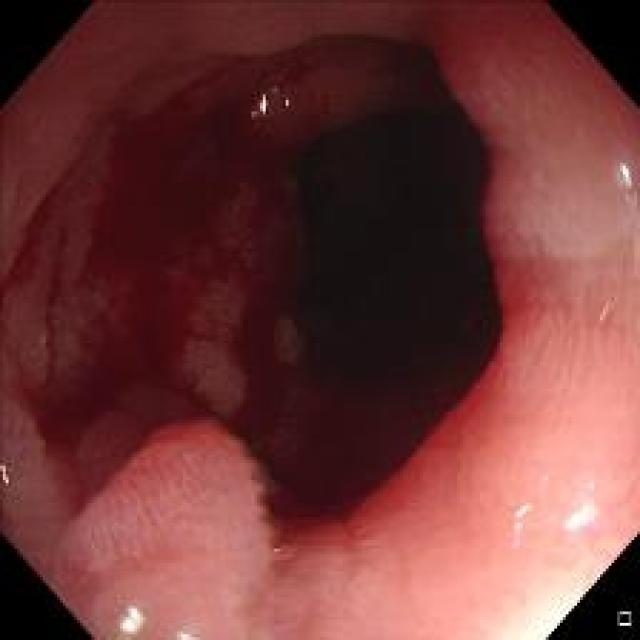blood: (228, 314, 494, 532), (94, 98, 304, 310), (49, 304, 221, 514)
bubbles: (582, 288, 624, 338), (266, 531, 298, 562)
contrast: (2, 38, 500, 524)
saturation: (472, 566, 585, 638)
specularity: (500, 486, 545, 539), (558, 492, 602, 532), (242, 84, 291, 119), (109, 596, 151, 635), (609, 155, 631, 199), (0, 458, 18, 496)
